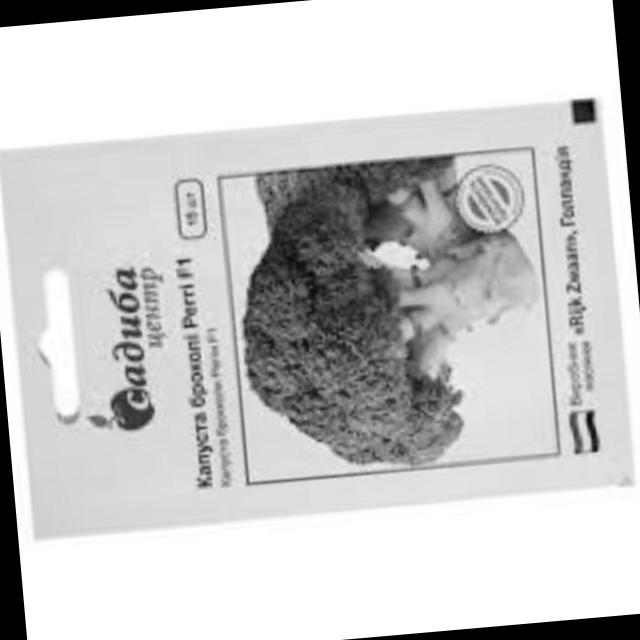broccoli: (228, 132, 538, 480)
